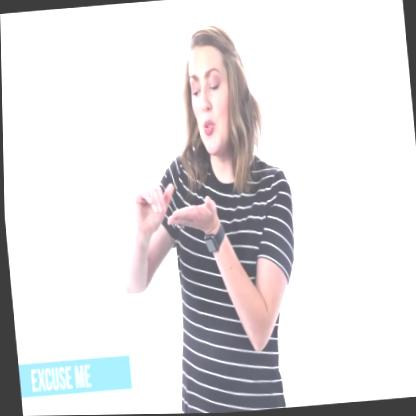ExcuseMe: (127, 165, 219, 254)
